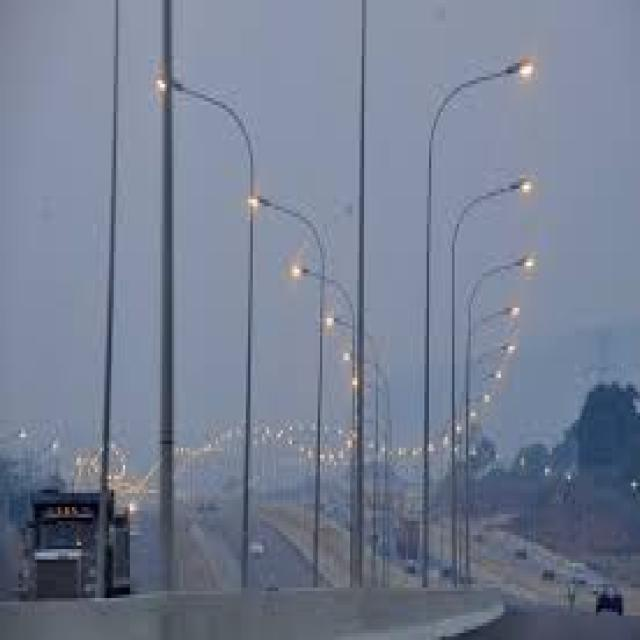Street Light: (420, 56, 533, 591), (156, 73, 258, 591), (450, 172, 531, 580), (248, 189, 327, 591), (464, 255, 533, 591), (290, 262, 359, 591), (466, 304, 522, 584), (324, 314, 362, 580)
